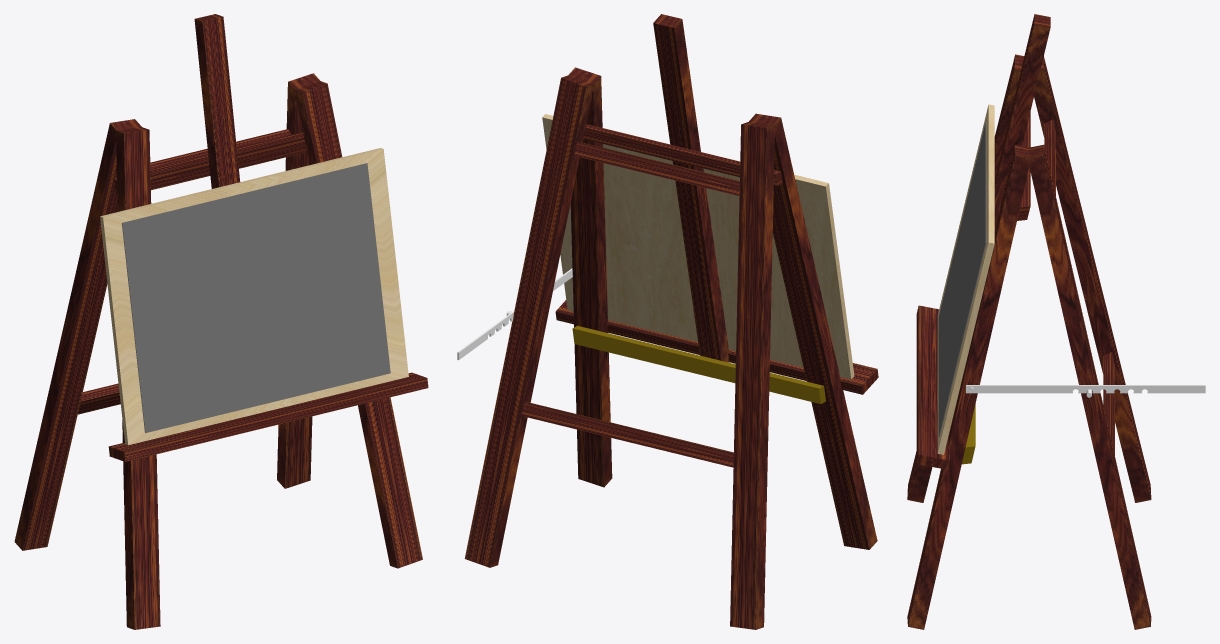
Rendered from Easel-1.obj.
3 views of the same model, side by side, from view 1: azimuth 30°, elevation 25°; view 2: azimuth 150°, elevation 25°; view 3: azimuth 270°, elevation 25° (orthographic).
Parts seen in each view (by area): view 1: Box11, Box07, Box02, Box01, Box04, Box03, Box08, Box06, Box05, Box09; view 2: Box11, Box07, Box08, Box02, Box01, Box03, Box10, Box05, Box04, Box06, Box09, Box12; view 3: Box08, Box11, Box01, Box07, Box04, Box03, Box12, Box02, Box05, Box09, Box06, Box10.
Boxes of the visible parts, x1,y1,x2,y2 form: Box11: [100, 148, 408, 445]; Box07: [14, 119, 141, 550]; Box02: [116, 127, 160, 629]; Box01: [294, 81, 422, 568]; Box04: [108, 372, 428, 461]; Box03: [194, 14, 240, 188]; Box08: [277, 73, 319, 488]; Box06: [114, 132, 306, 193]; Box05: [77, 383, 120, 414]; Box09: [150, 129, 291, 168]; Box11: [542, 114, 854, 379]; Box07: [730, 122, 774, 629]; Box08: [464, 75, 594, 567]; Box02: [749, 113, 877, 549]; Box01: [568, 67, 612, 487]; Box03: [653, 14, 729, 362]; Box10: [572, 325, 825, 403]; Box05: [522, 401, 733, 467]; Box04: [555, 300, 878, 394]; Box06: [583, 124, 782, 186]; Box09: [574, 141, 739, 196]; Box12: [457, 268, 572, 360]; Box08: [1029, 144, 1151, 629]; Box11: [937, 104, 994, 454]; Box01: [907, 145, 1029, 629]; Box07: [1034, 56, 1151, 502]; Box04: [916, 305, 949, 469]; Box03: [994, 14, 1050, 231]; Box12: [966, 385, 1205, 393]; Box02: [907, 54, 1024, 502]; Box05: [1103, 352, 1114, 455]; Box09: [1044, 119, 1055, 195]; Box06: [1017, 111, 1030, 220]; Box10: [962, 404, 975, 464].
Bounding box in the file's own units: 96.51 × 163 × 81.53.
